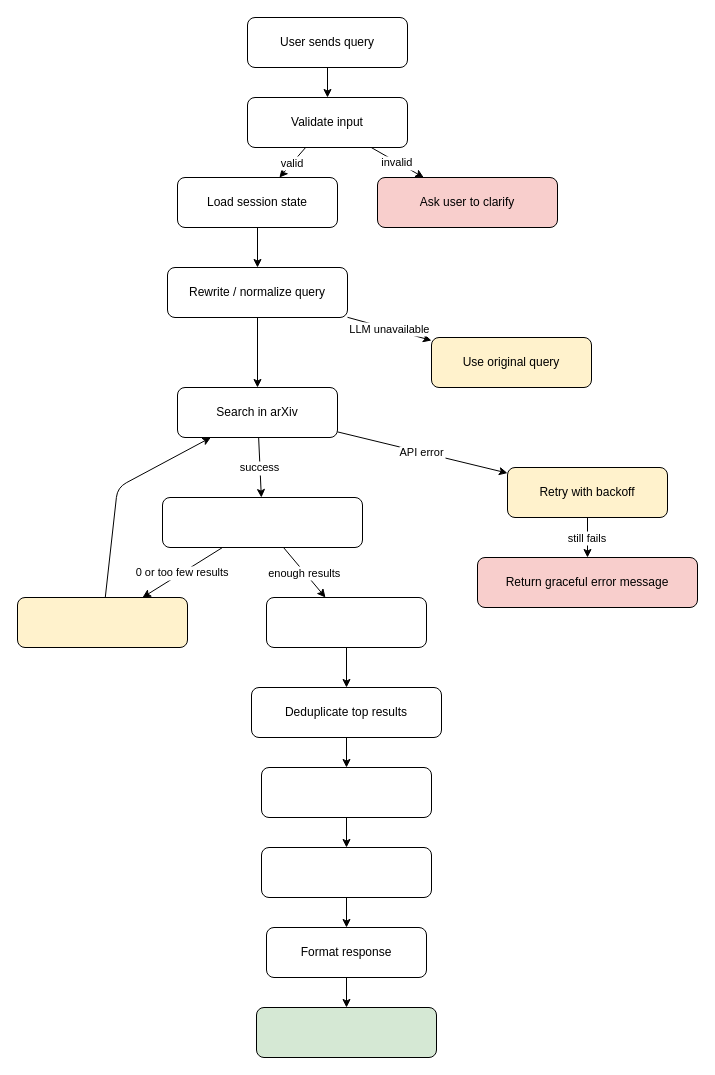
The diagram is 715 pixels wide and 1075 high, and some of its shapes have lost their labels. The centre of each missing label's shape, as x and y in pixels:
"Broaden query once" belongs at pixel 102 622.
"Generate summaries" belongs at pixel 346 792.
"Normalize and filter results" belongs at pixel 262 522.
"Rank candidates" belongs at pixel 346 622.
"Send response to user" belongs at pixel 346 1032.
"Store session state" belongs at pixel 346 872.
